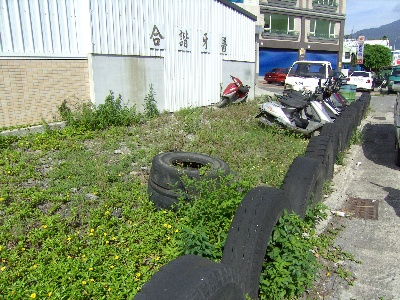bucket: (339, 84, 357, 103)
tire: (221, 185, 291, 300), (150, 151, 229, 197), (282, 153, 327, 213), (306, 136, 334, 181)
